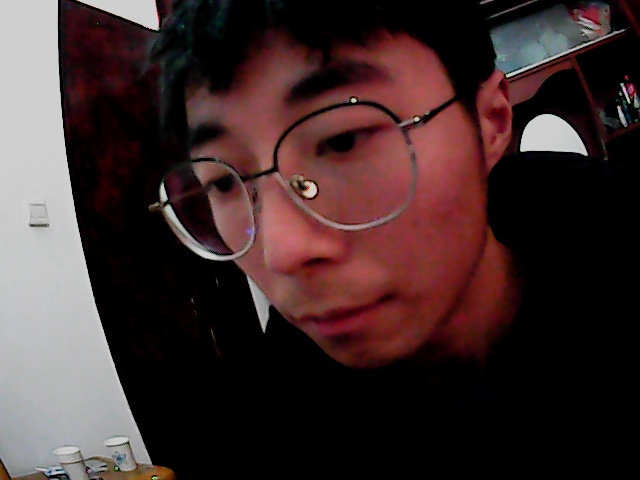face: (146, 5, 540, 369)
